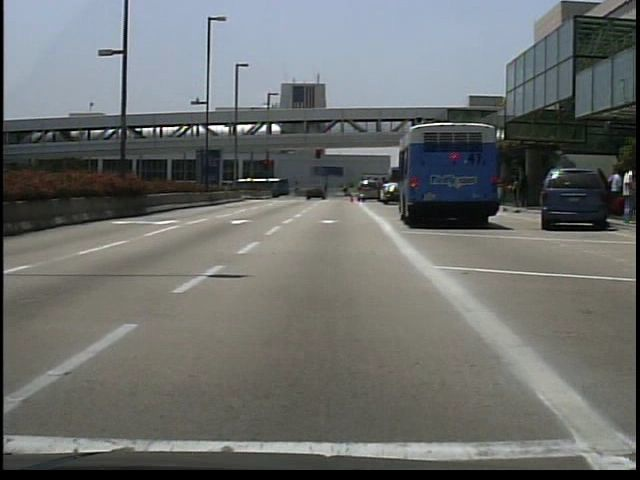person: (621, 163, 638, 222), (518, 173, 530, 208), (608, 168, 623, 192), (342, 184, 353, 199), (324, 185, 333, 200)
